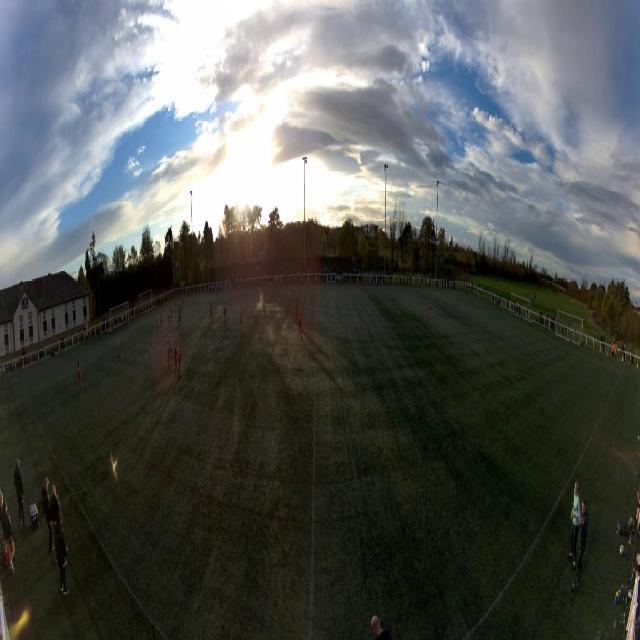player: (177, 342, 182, 376), (297, 309, 302, 340), (174, 341, 178, 377), (294, 298, 299, 324), (170, 334, 174, 365), (77, 361, 81, 390), (117, 337, 121, 361), (167, 335, 170, 367), (286, 292, 290, 314), (240, 308, 243, 336), (224, 301, 227, 326), (424, 301, 427, 326), (209, 302, 212, 326), (178, 305, 181, 325), (111, 316, 114, 332), (157, 316, 159, 337), (182, 298, 184, 317), (160, 312, 162, 331), (170, 306, 172, 324), (175, 303, 177, 321), (168, 307, 170, 325), (180, 302, 182, 320)
